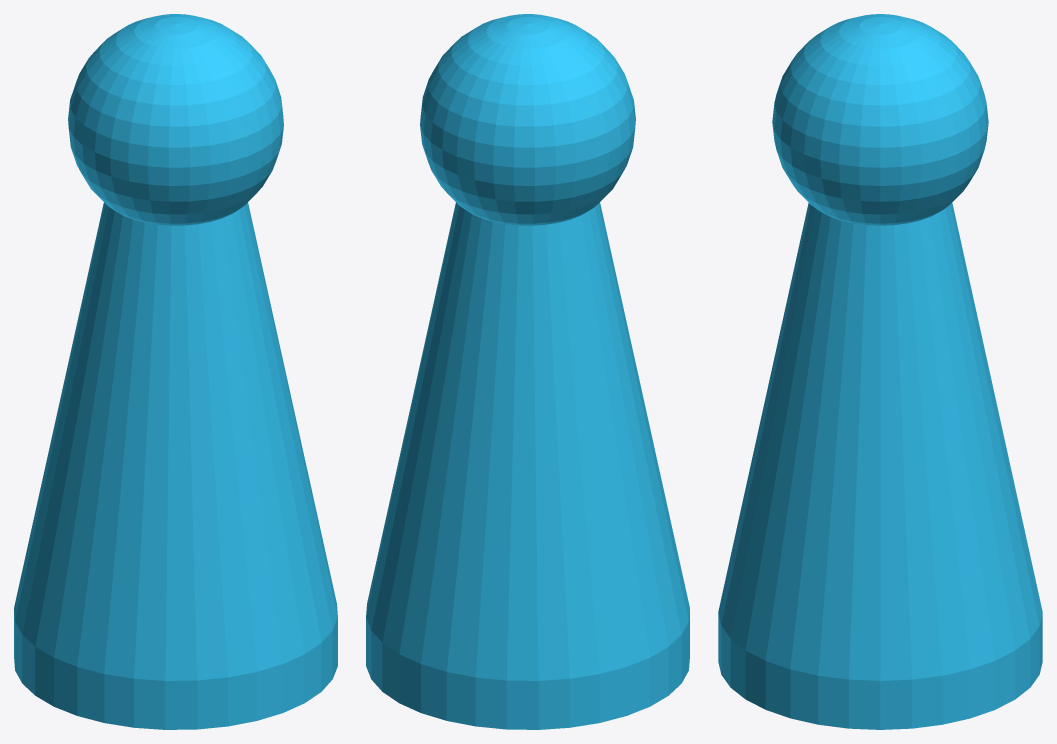
The model's file is ChipPlayer.fbx.
The picture shows the model from 3 angles, left to right: view 1: azimuth 30°, elevation 25°; view 2: azimuth 150°, elevation 25°; view 3: azimuth 270°, elevation 25°; orthographic projection.
Visible parts, largest first — view 1: Cylinder.002; view 2: Cylinder.002; view 3: Cylinder.002.
Part boxes in pixels (box(x1,y1,x2,y2)): Cylinder.002: box(14, 14, 337, 729); Cylinder.002: box(366, 14, 689, 729); Cylinder.002: box(718, 14, 1042, 729).
Size of the model in its own units: 120 by 260 by 120.
